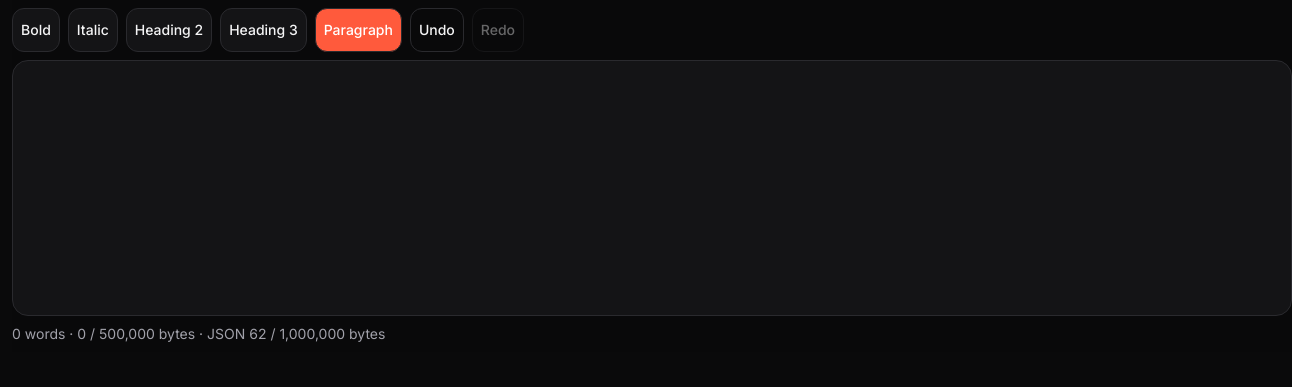
RichTextEditor format failures › clears the format status after a valid editor update
Clear the field named "Write your piece" at [652, 188], box [12,60,1291,316]
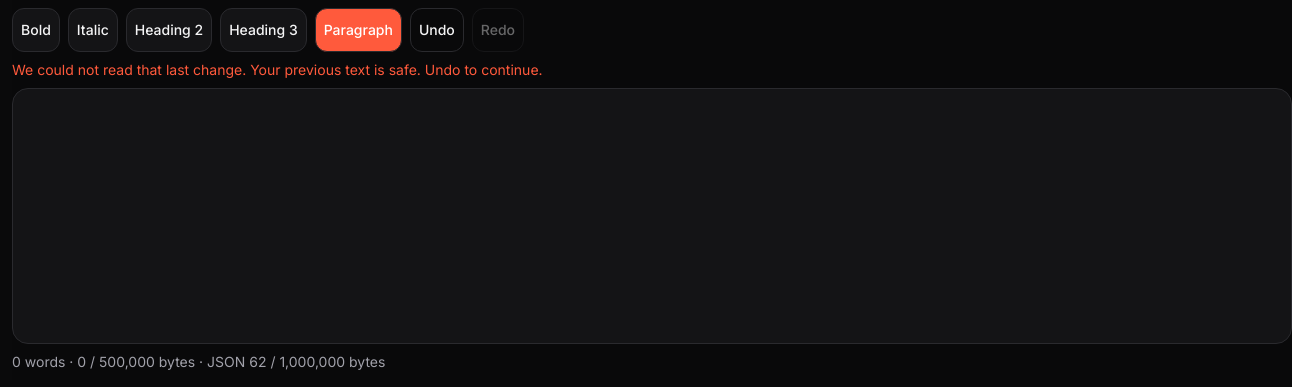
expect the message shows "We could not read that last change. Your previous text is safe. Undo to continue.": met, box [12,61,543,78]
Clear the field named "Write your piece" at [652, 216], box [12,88,1291,344]
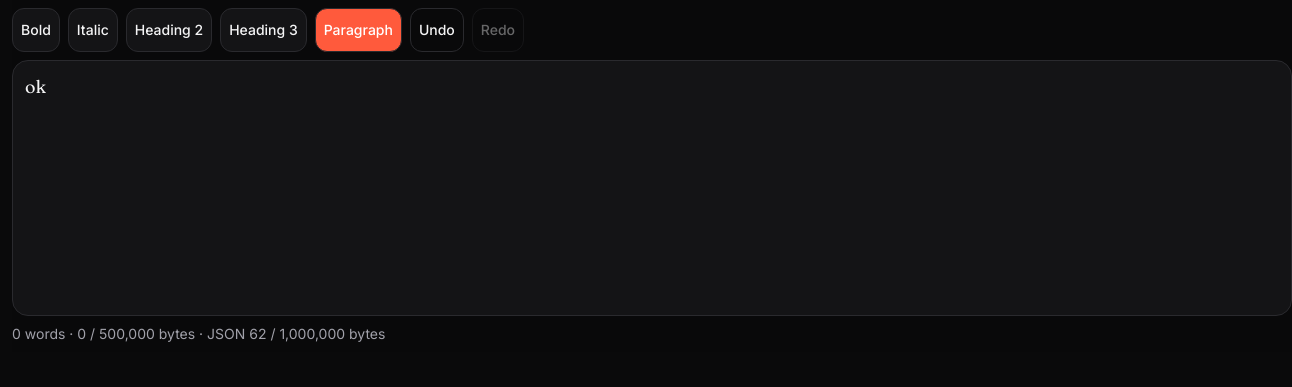
expect the text "We could not read that last change. Your previous text is safe. Undo to continue." is gone: met
